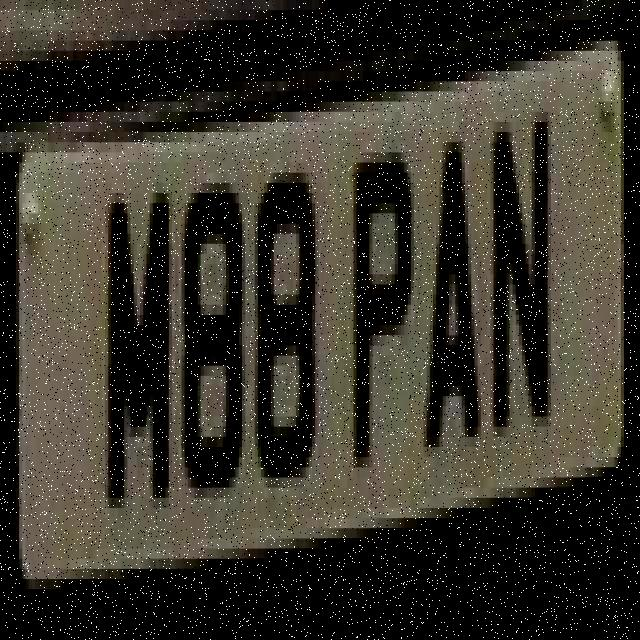licenseplate: (8, 31, 627, 604)
